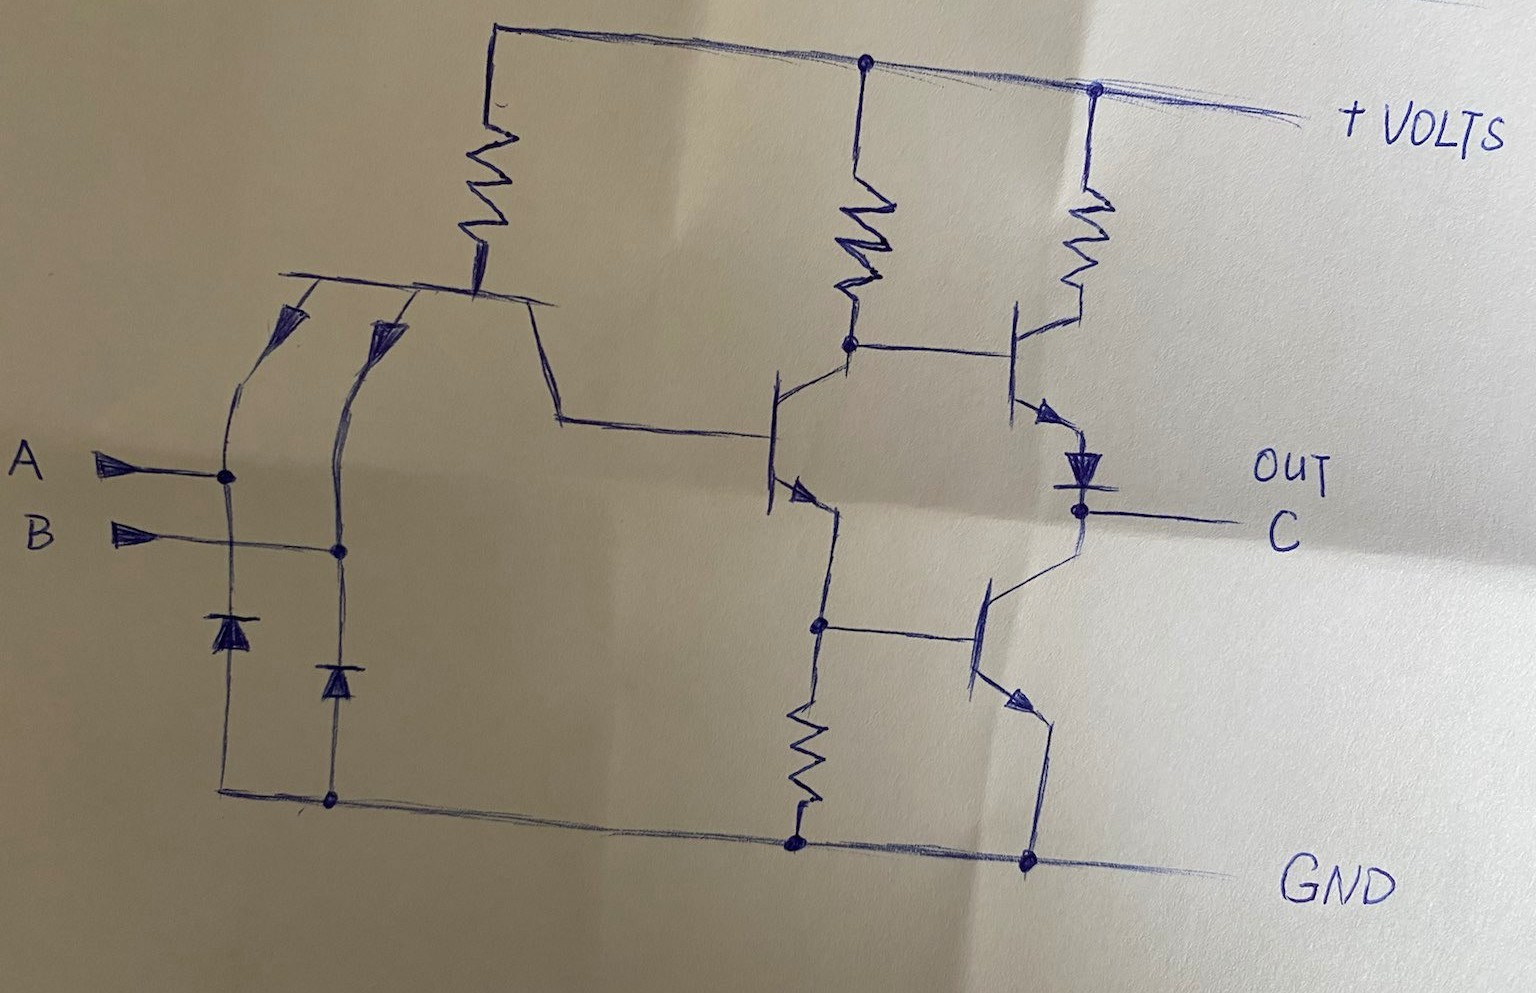crossover: (219, 532, 244, 556)
diode: (198, 599, 265, 662), (309, 652, 374, 706), (1052, 449, 1124, 495)
junction: (1076, 62, 1120, 114), (316, 527, 360, 577), (843, 41, 886, 90), (779, 822, 823, 866), (1009, 842, 1050, 889), (828, 318, 867, 357), (313, 781, 350, 819), (804, 605, 840, 643), (207, 453, 240, 493), (481, 9, 514, 47), (208, 770, 241, 804), (1065, 493, 1095, 528)
resistor: (827, 162, 905, 301), (455, 109, 530, 251), (1053, 177, 1120, 292), (776, 693, 830, 814)
terminal: (1162, 853, 1247, 894), (82, 439, 156, 486), (99, 506, 165, 555), (1184, 493, 1245, 541), (1258, 95, 1313, 141)
text: (1380, 91, 1507, 163), (1275, 846, 1401, 914), (1248, 443, 1340, 499), (3, 427, 49, 490), (1261, 507, 1313, 558), (13, 503, 60, 558), (1331, 93, 1371, 146)
transistor: (218, 262, 594, 437), (955, 546, 1092, 740), (744, 362, 856, 532), (1005, 297, 1101, 443)
